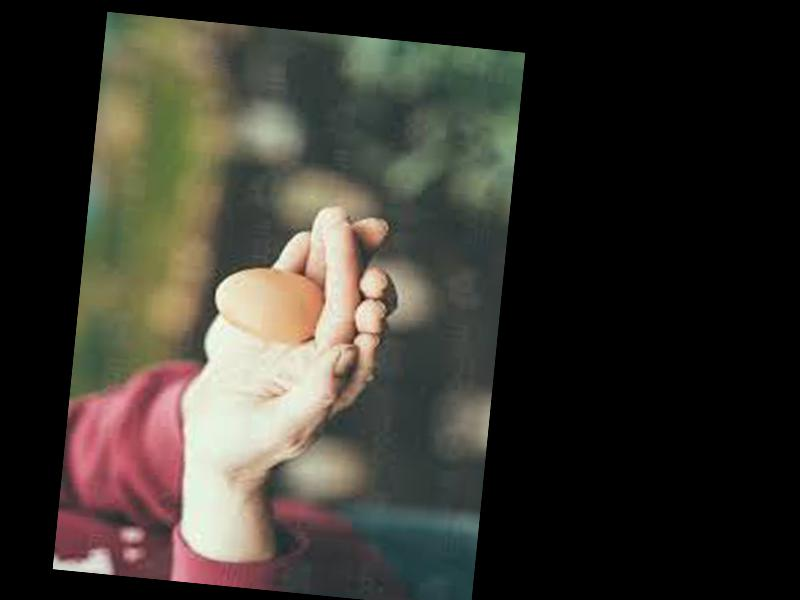Eggs: (211, 264, 324, 345)
